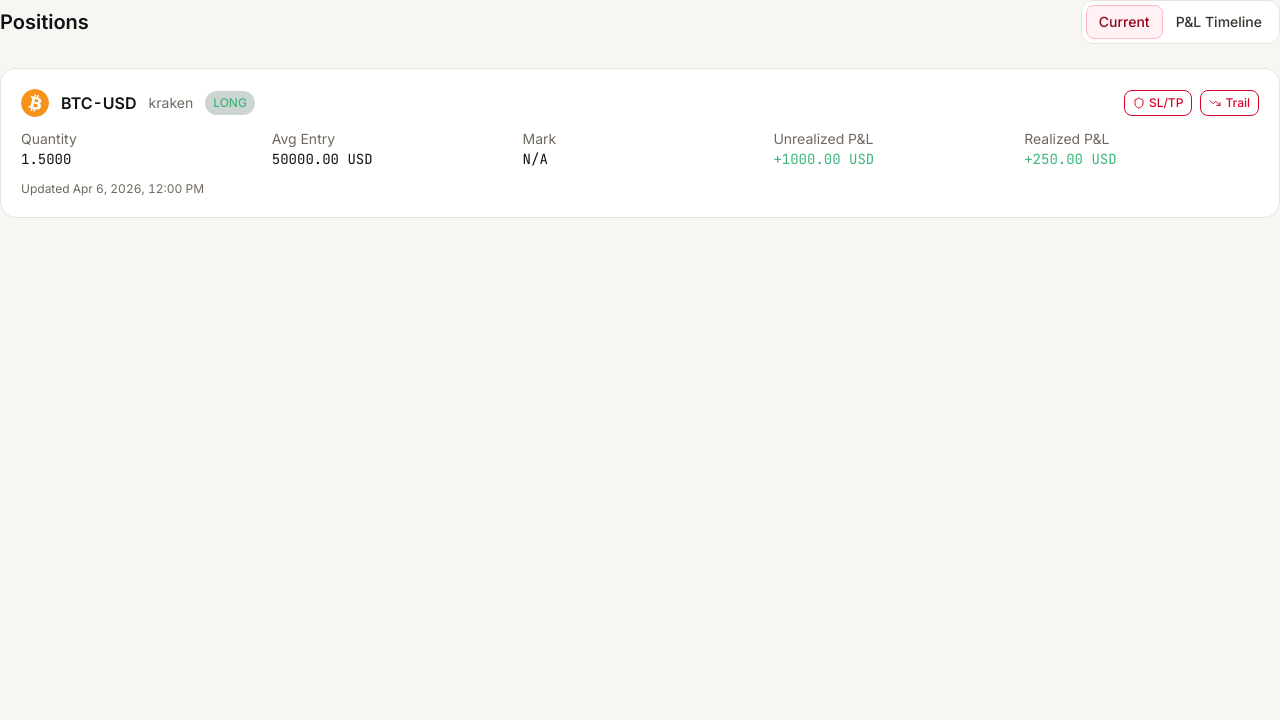
Test: Positions › opens bracket modal when SL/TP button is clicked
Click the button with test id "attach-bracket-BTC-USD-kraken-live".
click(1158, 103)  # box top-left (1124, 90), bottom-right (1192, 116)
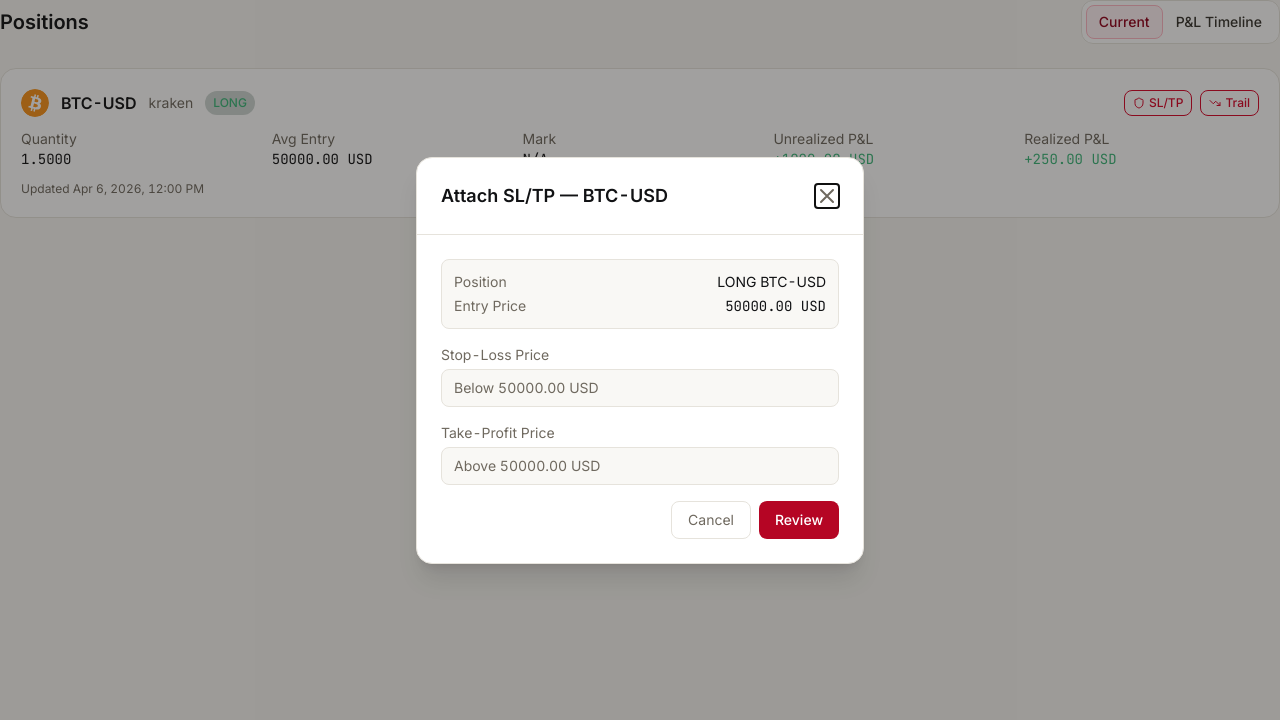
Check: the heading "Attach SL/TP — BTC-USD" is shown, box top-left (441, 182), bottom-right (668, 210)
